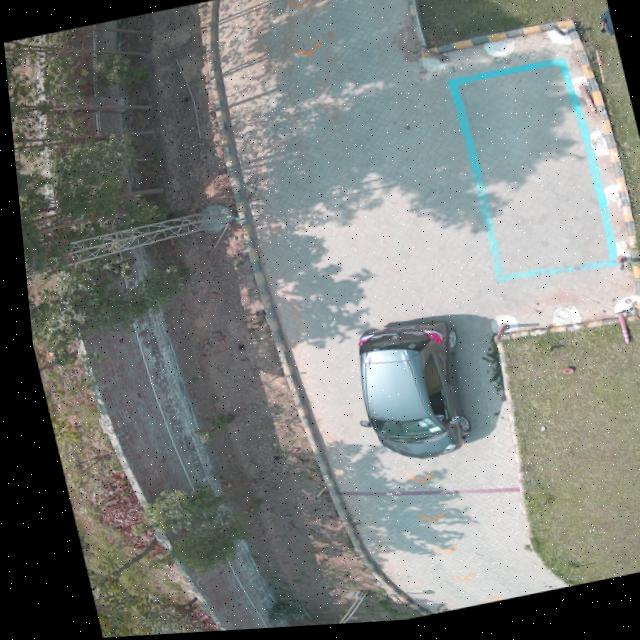car: (352, 324, 465, 461)
